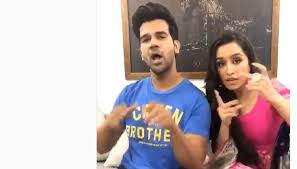Bad: (97, 2, 290, 168)
